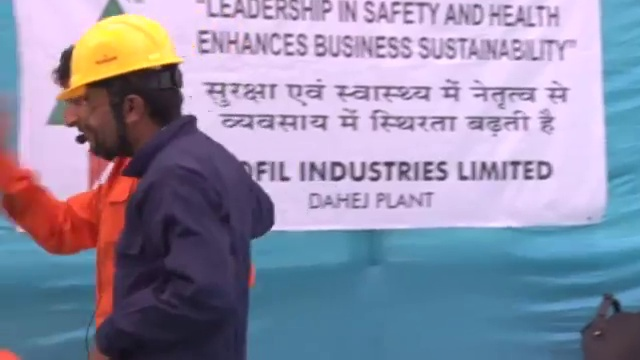helmet: (58, 16, 185, 99)
helmet_on: (55, 14, 198, 161)
person: (50, 14, 272, 359)
